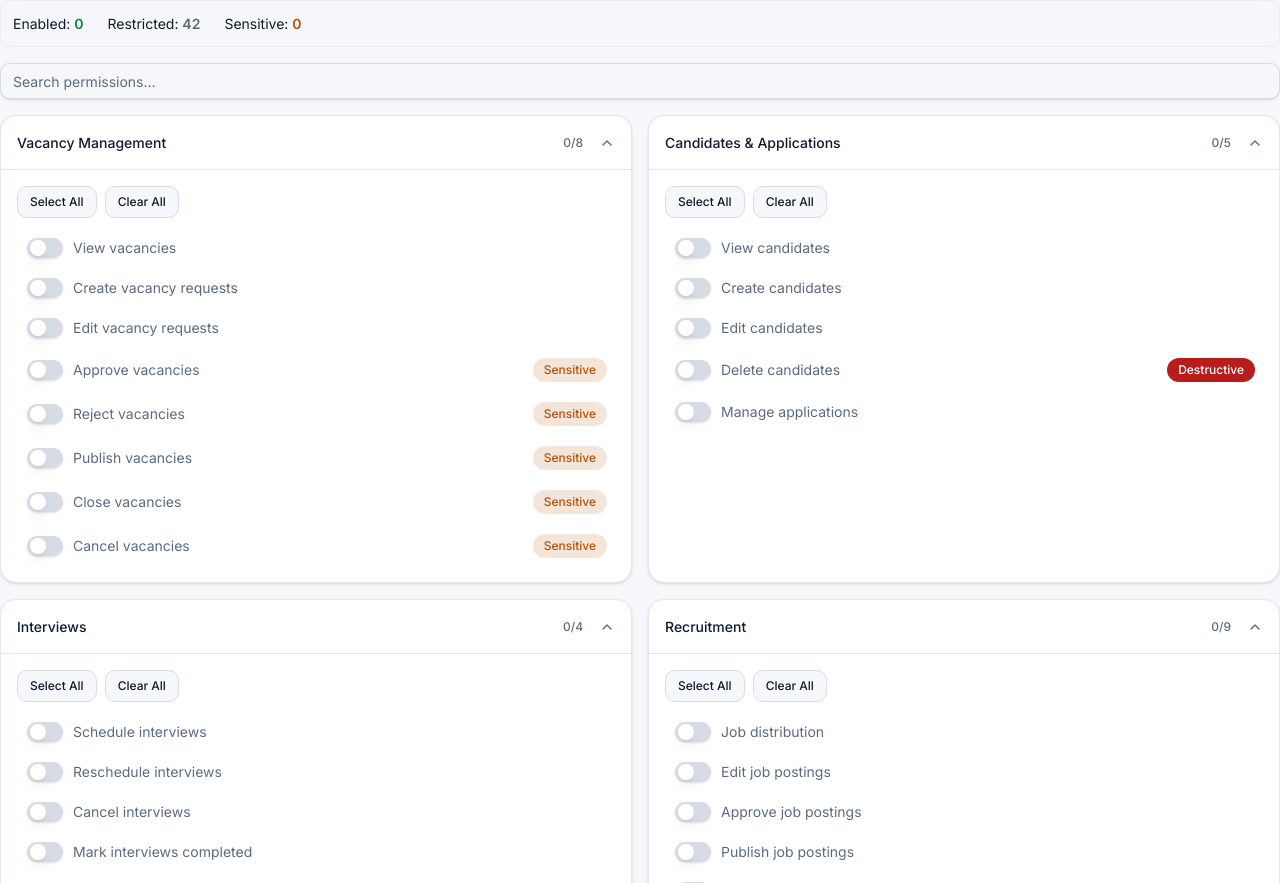
PermissionCategoryCards › Select All covers rows the search has filtered out, so it grants what it says
Step 1. Type "approve" into the field labelled "Search permissions" → point(640, 81), box [0, 63, 1279, 99]
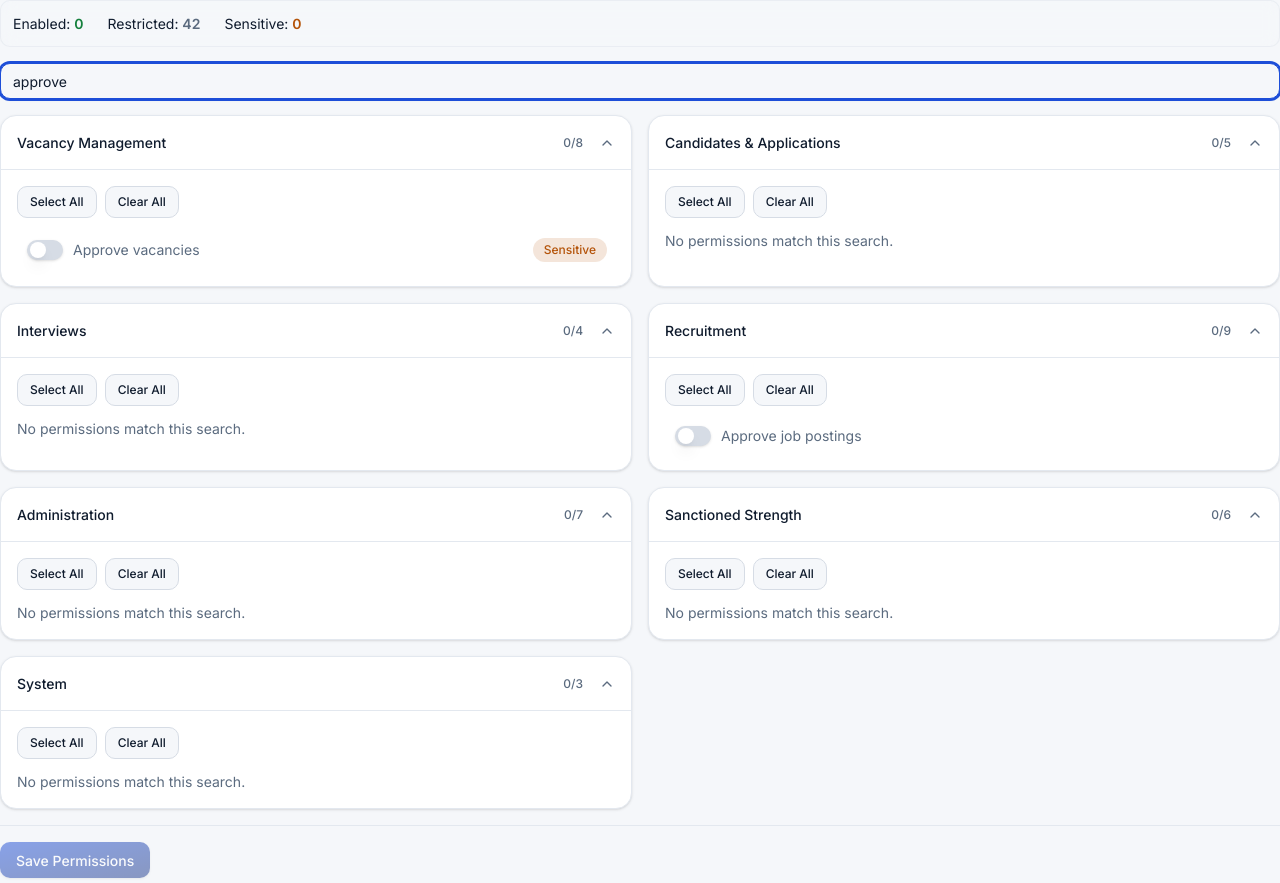
Result: the label "Close vacancies" is gone
Step 2. Click the 1st button "Select All" → point(57, 202), box [17, 186, 97, 218]
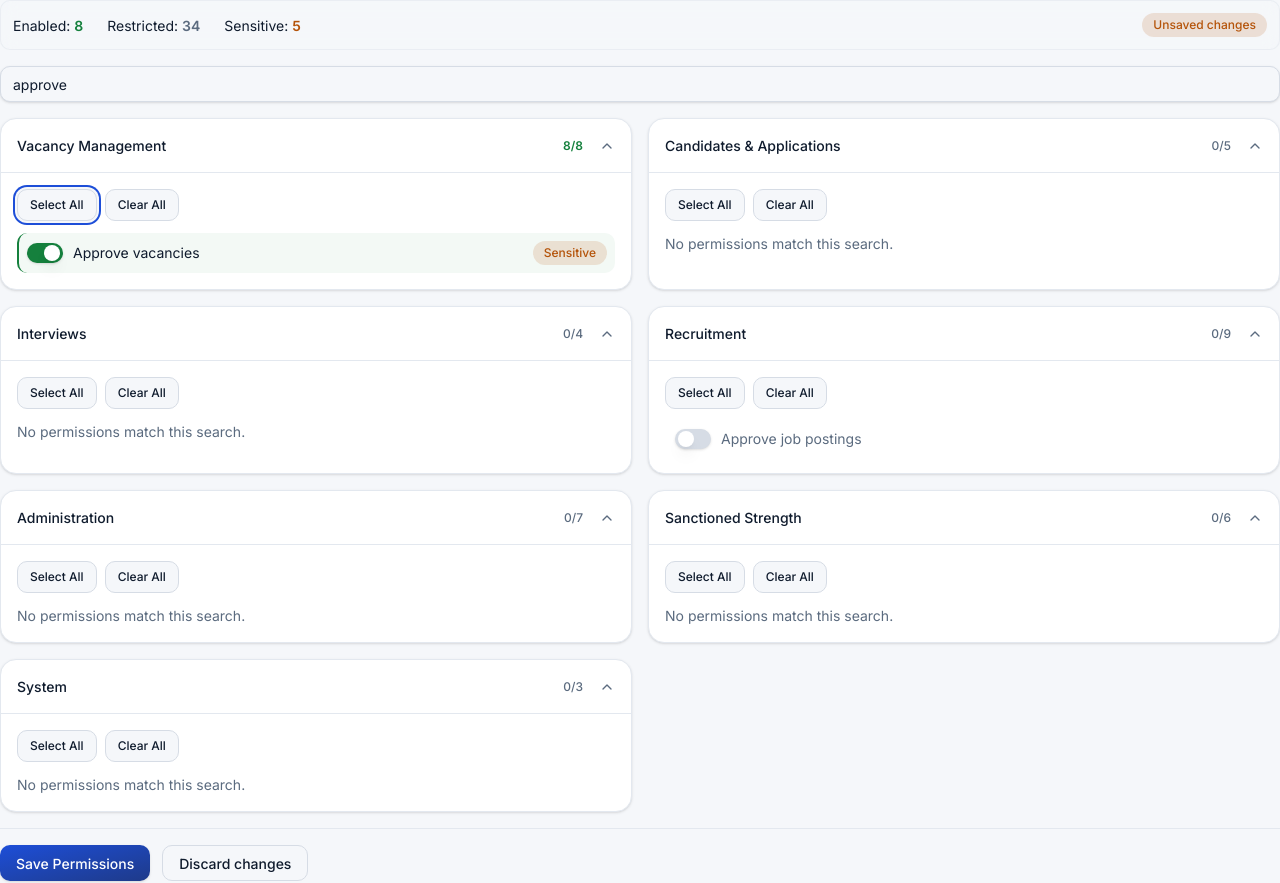
Result: the text "8/8" is shown at [563, 136, 583, 154]
Step 3. Clear the field named "Search permissions" → point(640, 84), box [0, 66, 1279, 102]
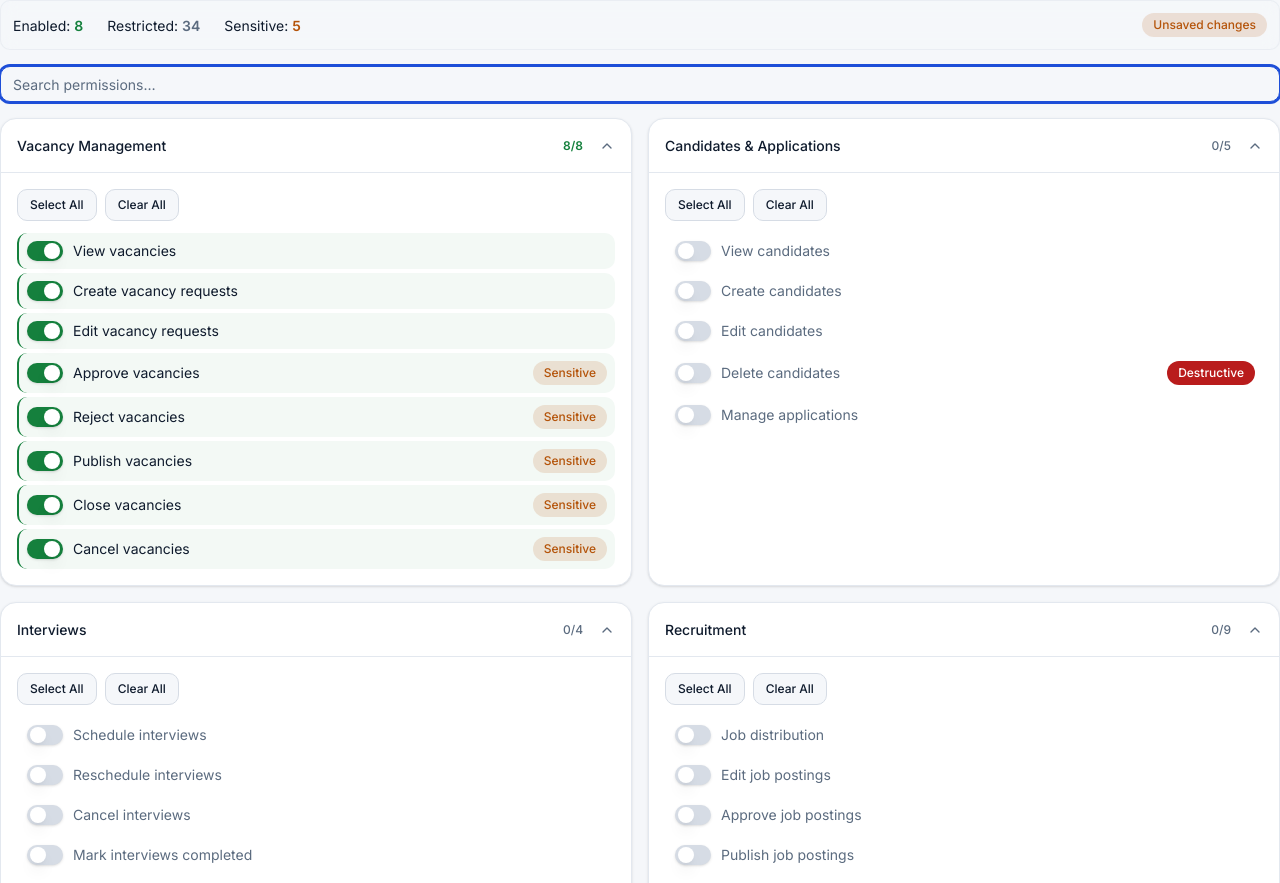
Result: the switch named "Close vacancies" next to "Close vacancies" is checked at [27, 495, 63, 515]
